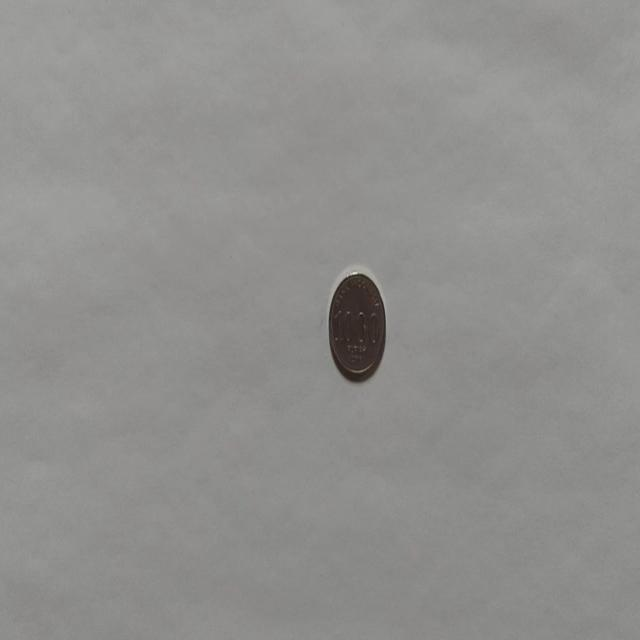seribu rupiah koin: (327, 266, 387, 382)
